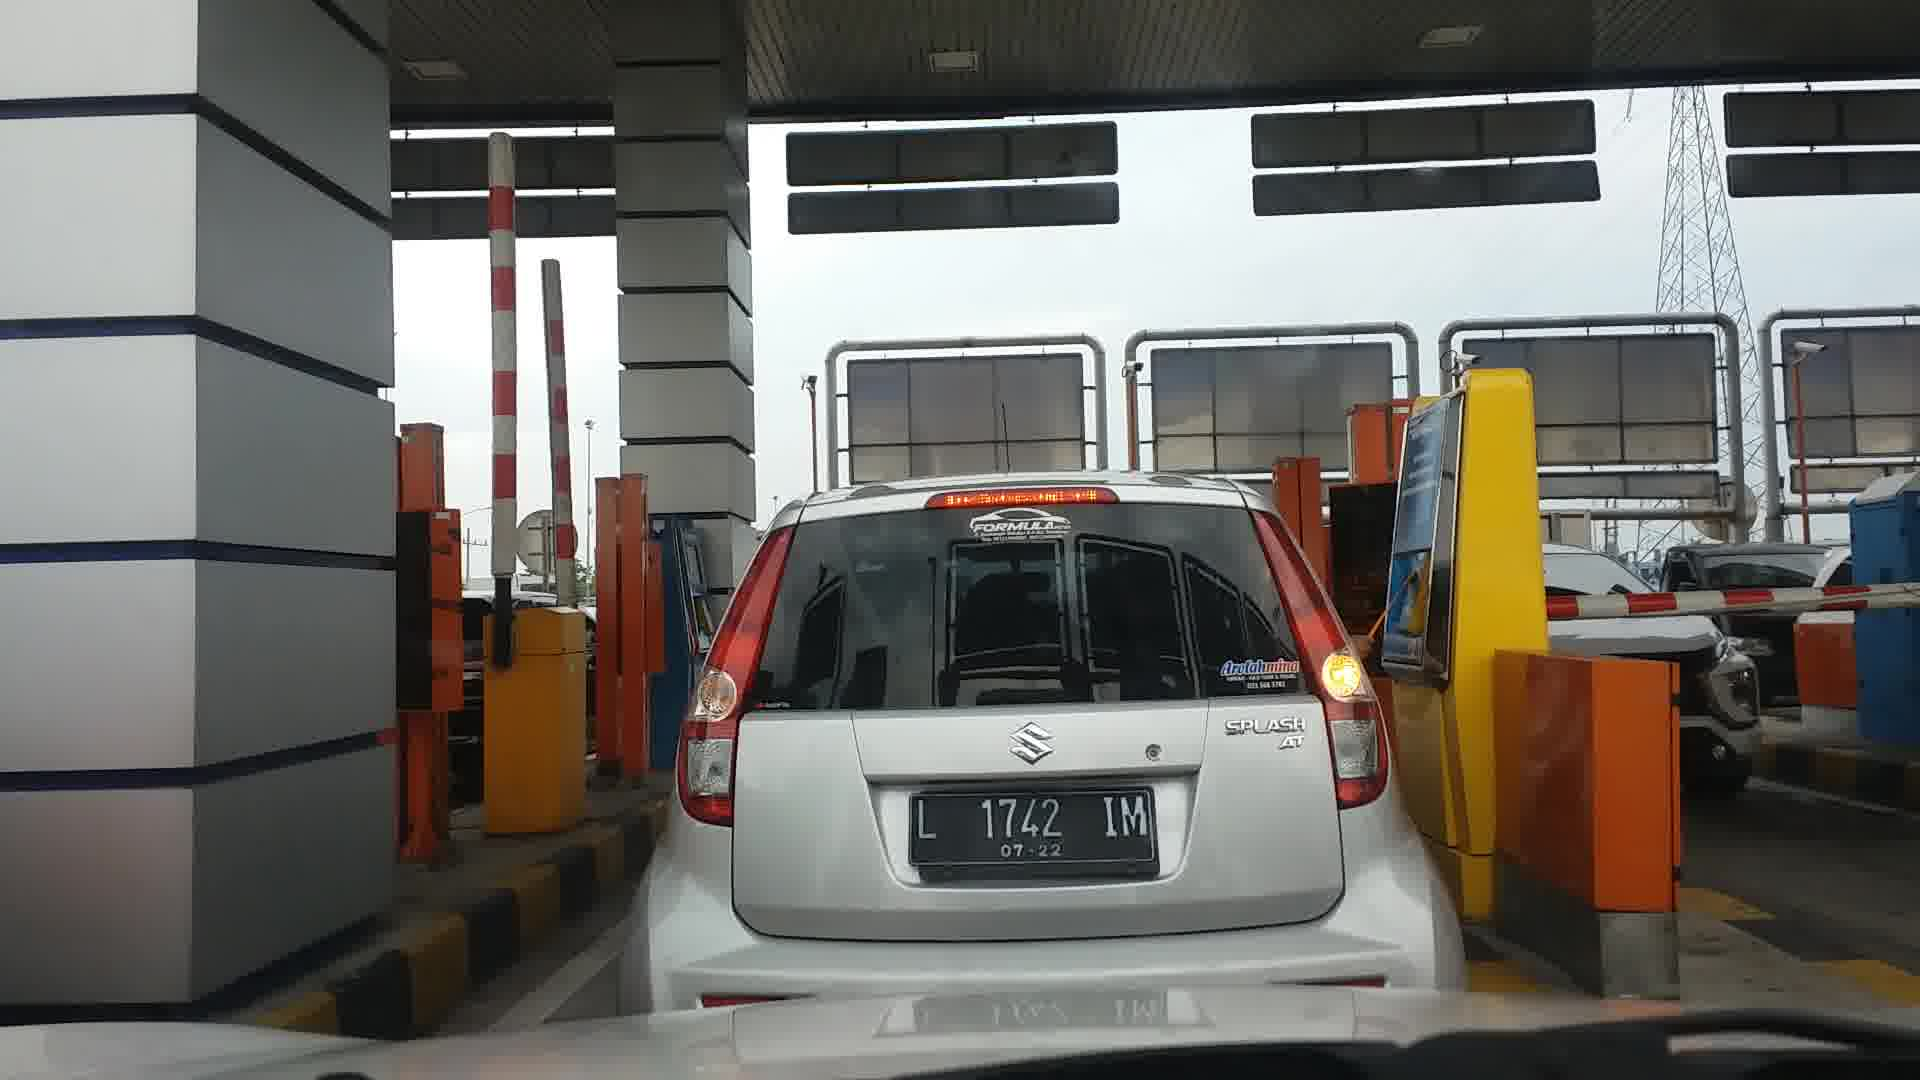plate_positive: (909, 786, 1158, 884)
